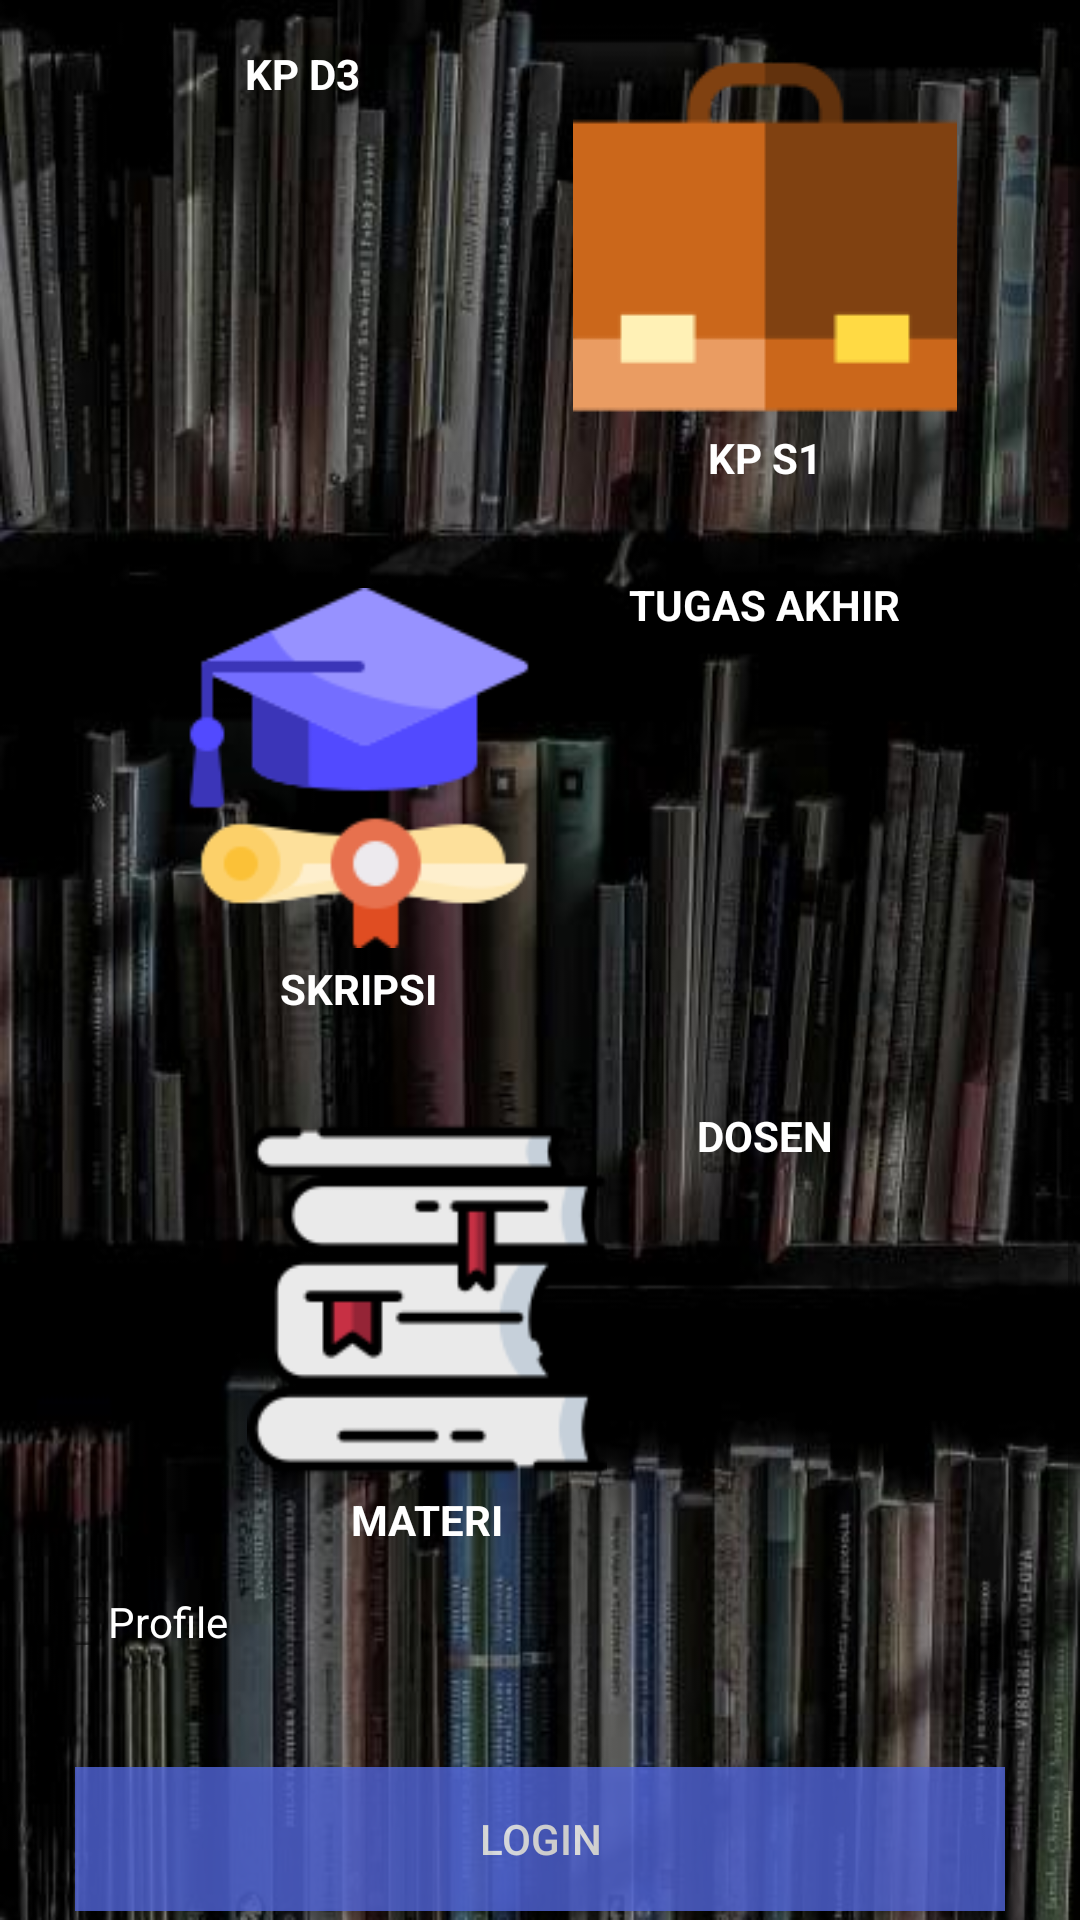

Named icons in this screenshot (1080x1920) and their bounding boxes, (x1, y1, x2, y2):
library: (262, 1109, 599, 1378)
